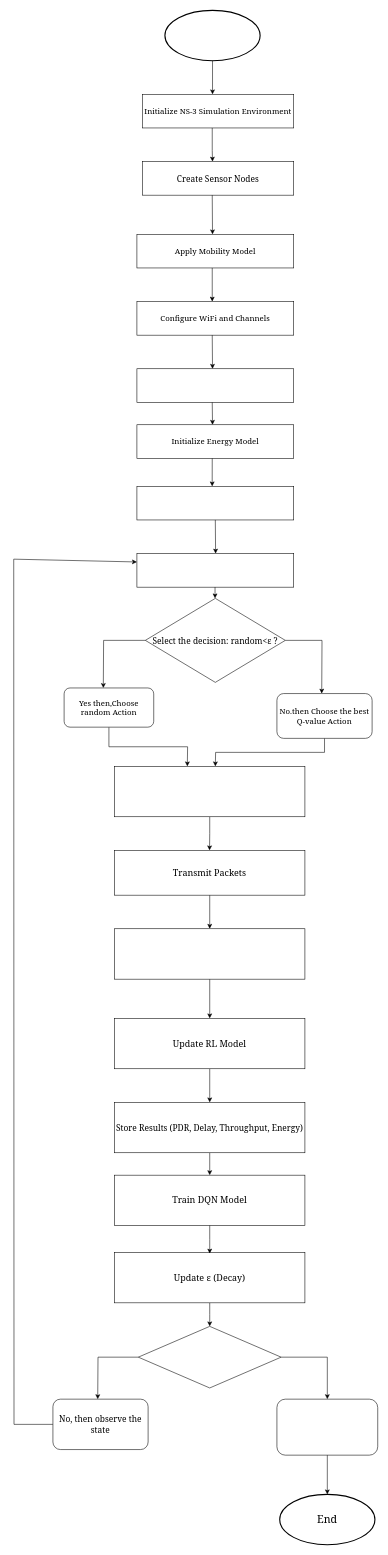
The diagram is 388 pixels wide and 1555 high, and some of its shapes have lost their labels. Here are the shapes that lost their labels. From the top down, the box of each, then its label:
(164, 10, 260, 61): Start
(136, 368, 294, 402): Apply AODV Routing
(136, 486, 294, 520): Initialize RL Agent (DQN / DDQN / PER-DQN)
(136, 553, 294, 587): Observe Network State (RSSI, Retransmissions, Channels)
(114, 766, 305, 817): Apply Action (Select Channel)
(114, 928, 305, 979): Calculate Reward (based on PDR)
(138, 1326, 281, 1388): End of Process?
(276, 1399, 378, 1455): Yes, then display the results
